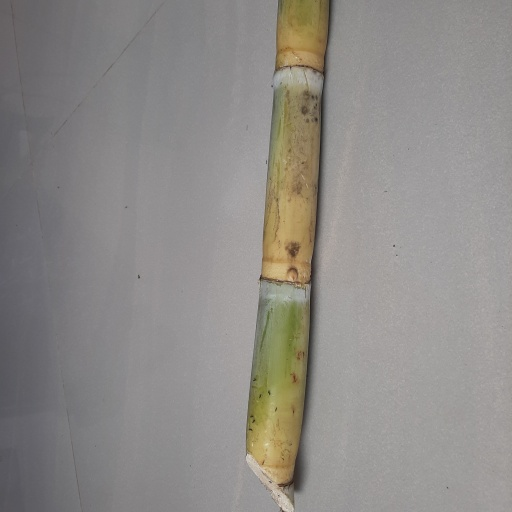Bud: (285, 266, 299, 284)
